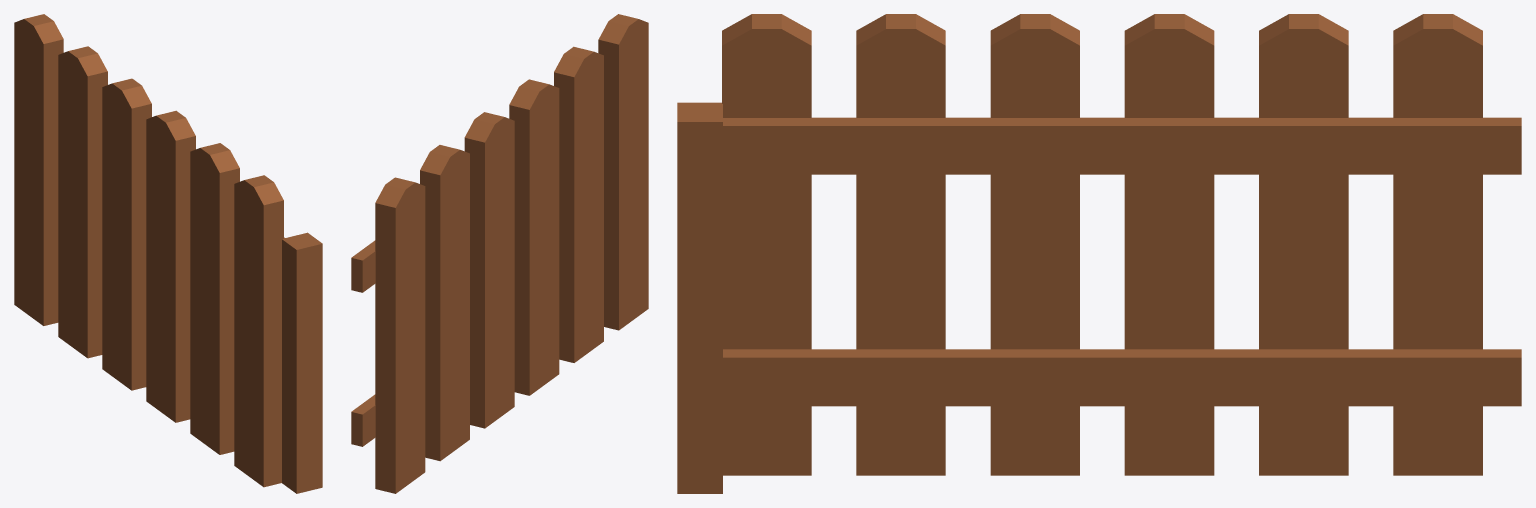
File: fence.fbx
3 renders of one model, left to right at view 1: azimuth 30°, elevation 25°; view 2: azimuth 150°, elevation 25°; view 3: azimuth 270°, elevation 25°, orthographic. The views are drawn at different scales.
Parts seen in each view (by area): view 1: Cube; view 2: Cube; view 3: Cube.
Boxes of the visible parts, x1,y1,x2,y2 form: Cube: (14, 14, 322, 493); Cube: (351, 14, 648, 493); Cube: (677, 14, 1521, 493).
Size of the model in its own units: 136 by 861 by 1474.
